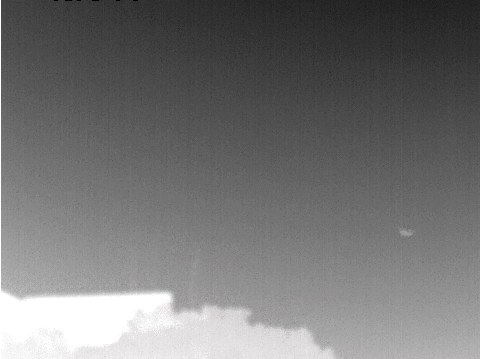dim target: (392, 220, 419, 245)
